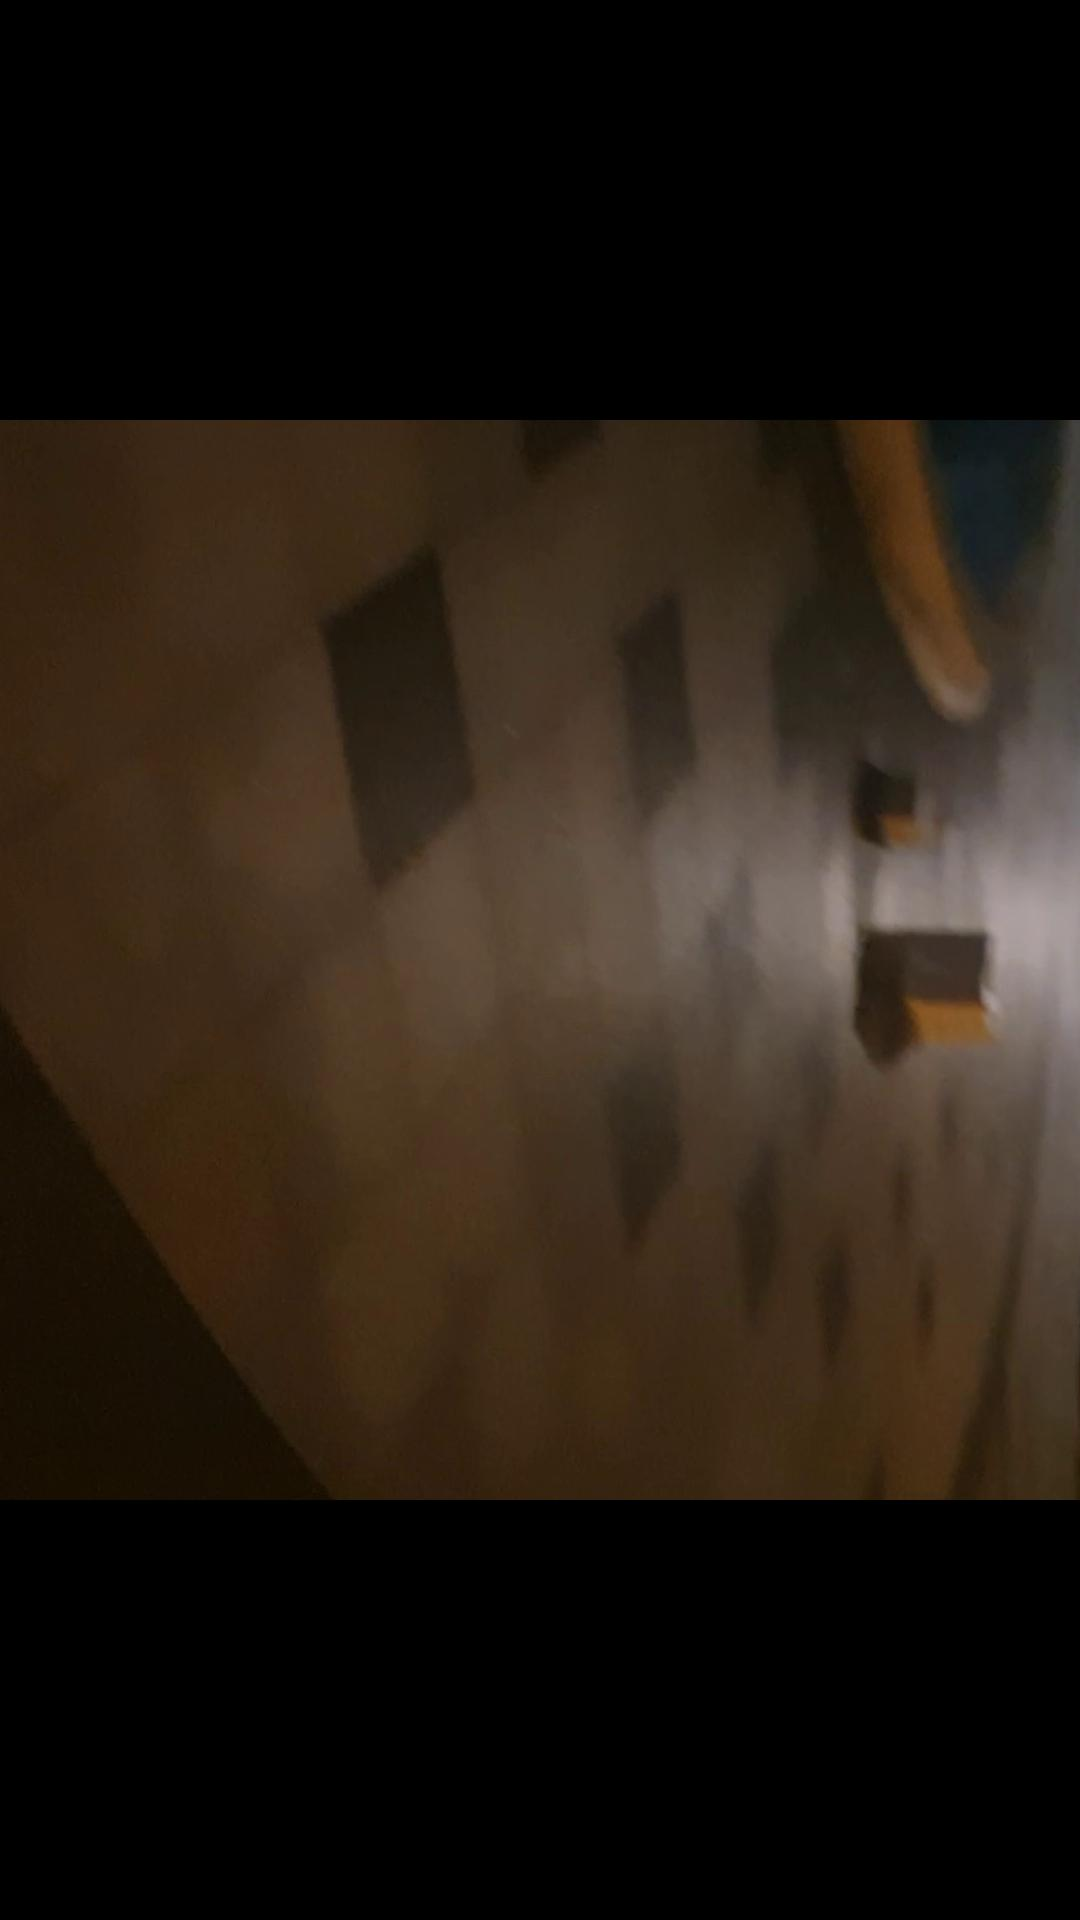Box: (890, 923, 1015, 1042), (862, 771, 942, 848)
